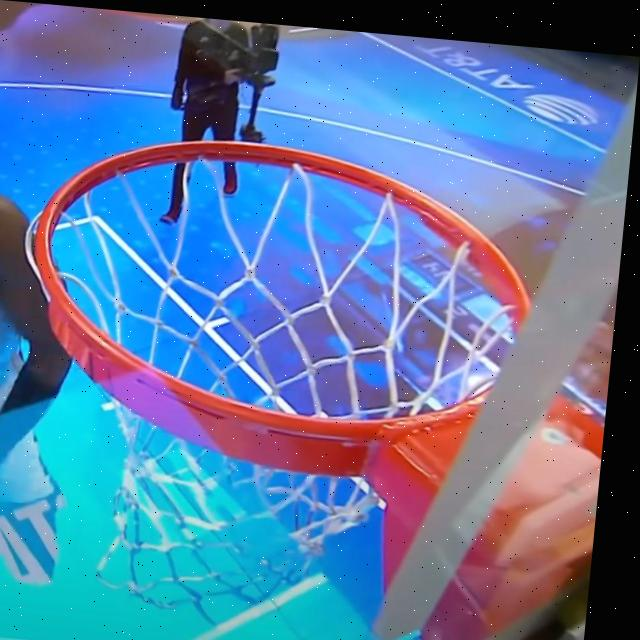hoop: (0, 102, 535, 593)
